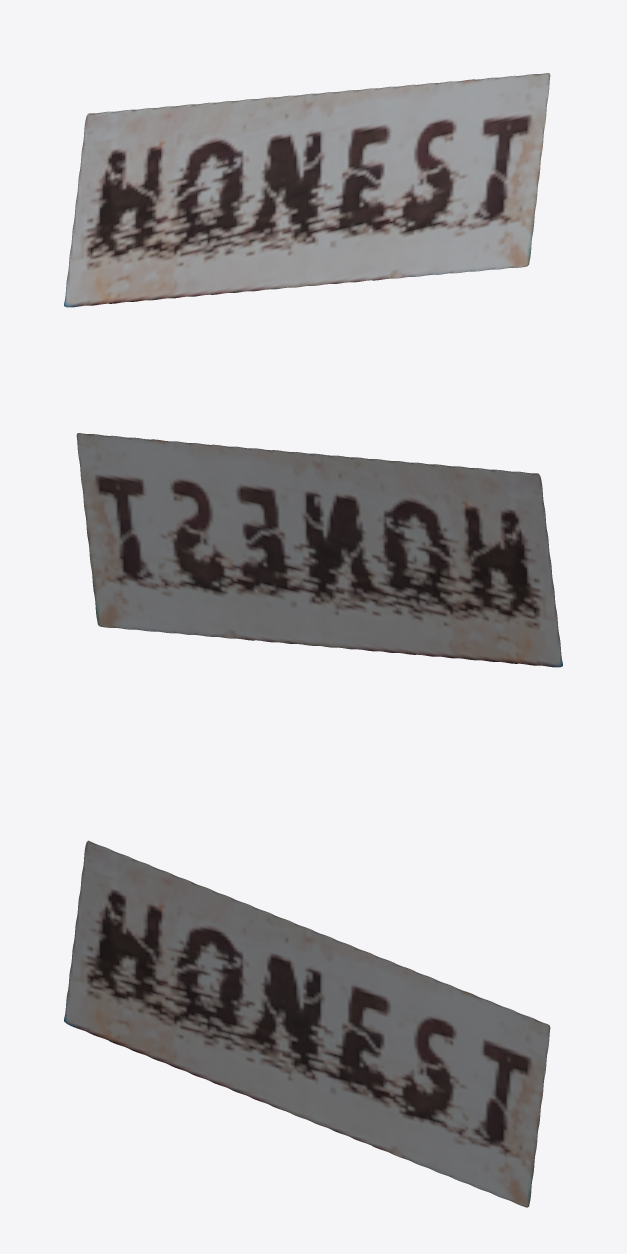
File: Sticker_30.fbx
3 views of the same model, one above another, from view 1: azimuth 30°, elevation 25°; view 2: azimuth 150°, elevation 25°; view 3: azimuth 330°, elevation 25° (orthographic).
Visible parts, largest first — view 1: Sticker_30; view 2: Sticker_30; view 3: Sticker_30.
Boxes of the visible parts, x1,y1,x2,y2 form: Sticker_30: [64, 73, 550, 307]; Sticker_30: [76, 433, 562, 667]; Sticker_30: [64, 840, 550, 1207].
Size of the model in its own units: 0.3897 by 0.2362 by 1.03e-08.
